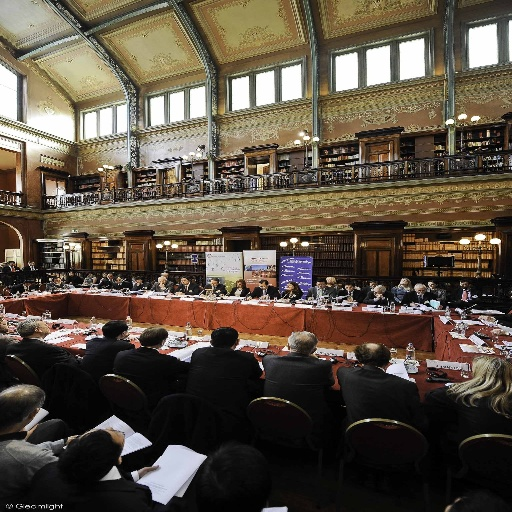hand: (159, 282, 164, 287)
